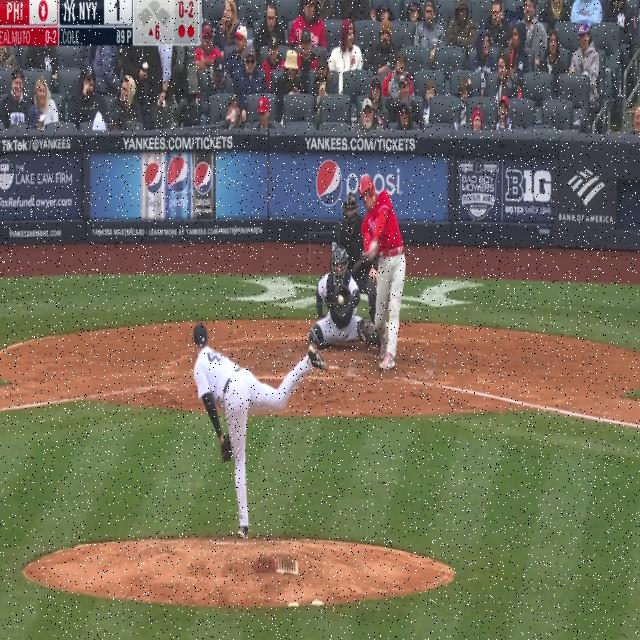baseball: (338, 294, 344, 306)
